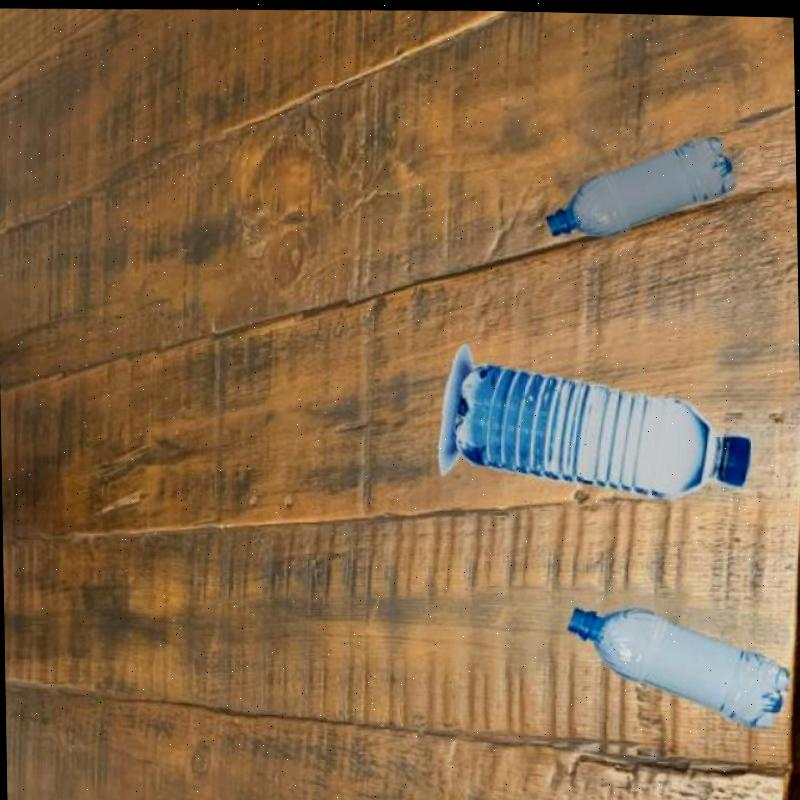botella: (450, 358, 750, 501), (566, 600, 792, 728), (544, 128, 732, 244)
